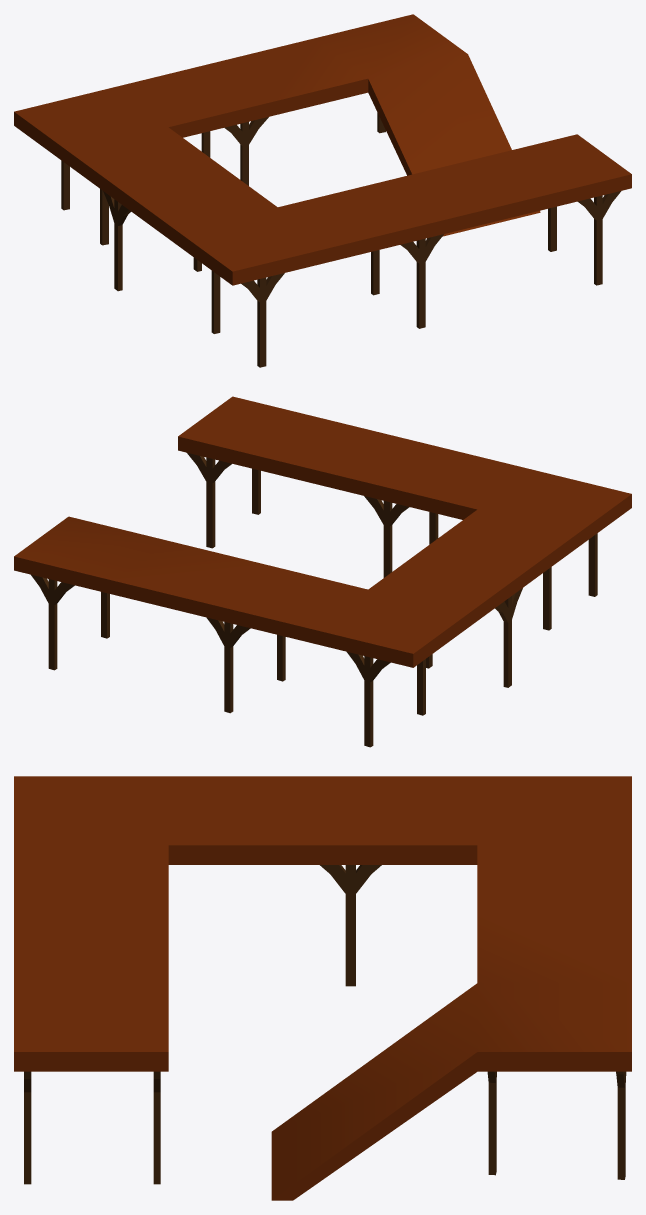
Rendered from PASARELA_NO_DESTROY.FBX.
3 views of the same model, one above another, from view 1: azimuth 30°, elevation 25°; view 2: azimuth 150°, elevation 25°; view 3: azimuth 270°, elevation 25° (orthographic). The views are drawn at different scales.
Visible parts, largest first — view 1: Plane001, Box004, Box006, Box001, Box008, Box011, Box005; view 2: Plane001, Box002, Box012, Box010, Box014, Box003, Box008, Box006, Box005; view 3: Plane001, Box007, Box014, Box013, Box001, Box002.
Part boxes in pixels (x1=…): Plane001: x1=14, y1=14, x2=631, y2=285; Box004: x1=400, y1=234, x2=443, y2=328; Box006: x1=241, y1=273, x2=284, y2=367; Box001: x1=577, y1=191, x2=621, y2=285; Box008: x1=103, y1=191, x2=131, y2=291; Box011: x1=224, y1=117, x2=268, y2=185; Box005: x1=211, y1=271, x2=220, y2=333; Plane001: x1=14, y1=396, x2=631, y2=667; Box002: x1=187, y1=453, x2=231, y2=548; Box012: x1=206, y1=617, x2=250, y2=713; Box010: x1=347, y1=652, x2=390, y2=747; Box014: x1=31, y1=574, x2=74, y2=670; Box003: x1=364, y1=496, x2=409, y2=577; Box008: x1=495, y1=588, x2=522, y2=687; Box006: x1=588, y1=533, x2=597, y2=596; Box005: x1=543, y1=567, x2=551, y2=630; Plane001: x1=14, y1=776, x2=631, y2=1200; Box007: x1=320, y1=865, x2=381, y2=986; Box014: x1=616, y1=1071, x2=626, y2=1179; Box013: x1=487, y1=1071, x2=496, y2=1175; Box001: x1=24, y1=1071, x2=31, y2=1184; Box002: x1=153, y1=1071, x2=160, y2=1184.
Bounding box in the file's own units: 345 × 87.73 × 327.
